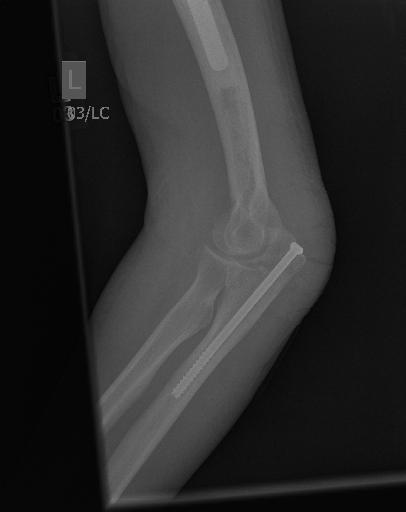elbow positive: (223, 252, 309, 296)
